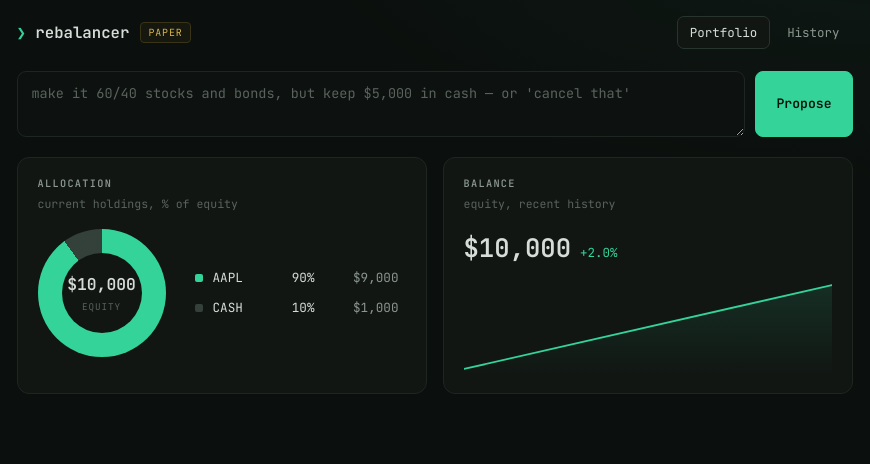
Test: App › cancels pending orders via the same box
In the text box named "request": (381, 104) [16,71,745,137], type "cancel that"
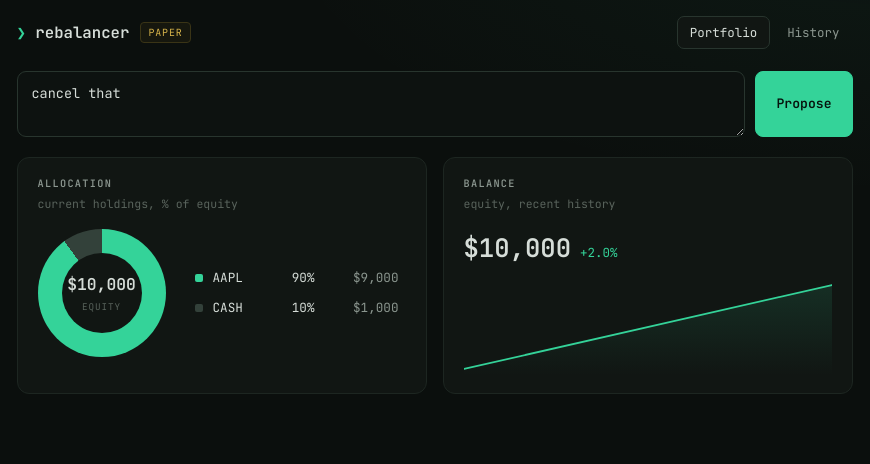
Click the button "Propose": (804, 104) [755,71,852,137]
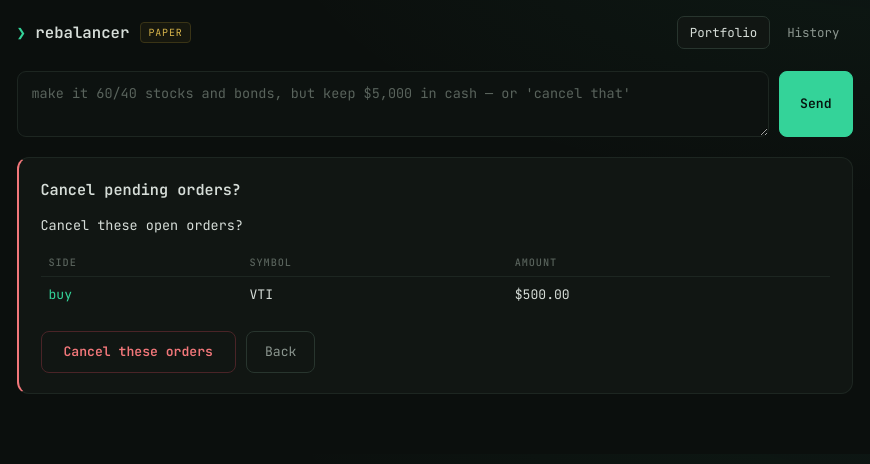
Result: the heading "Cancel pending orders?" is shown at [40,179,241,200]
Click the button "Cancel these orders": (138, 352) [40,331,236,373]
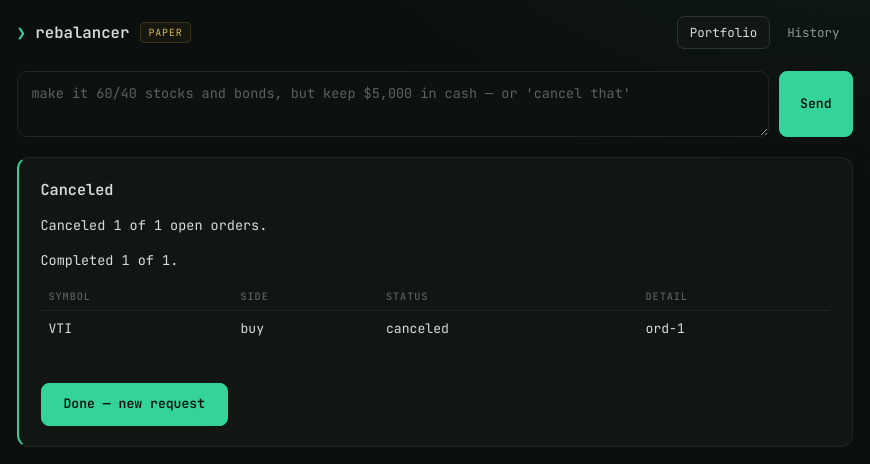
Result: the heading "Canceled" is shown at [40,179,113,200]
